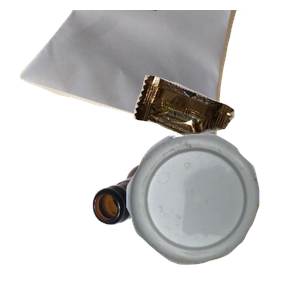glass: (90, 148, 300, 300)
paper: (17, 10, 254, 141)
plastic: (124, 132, 300, 300)
trash: (131, 73, 300, 202)
